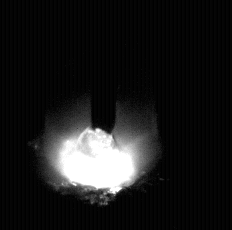arame: (92, 0, 117, 134)
poca: (42, 0, 160, 230)
